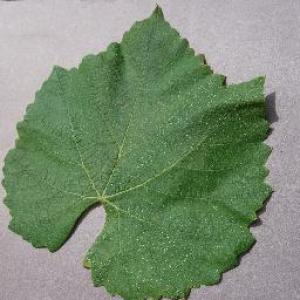Folha: (1, 3, 276, 300)
